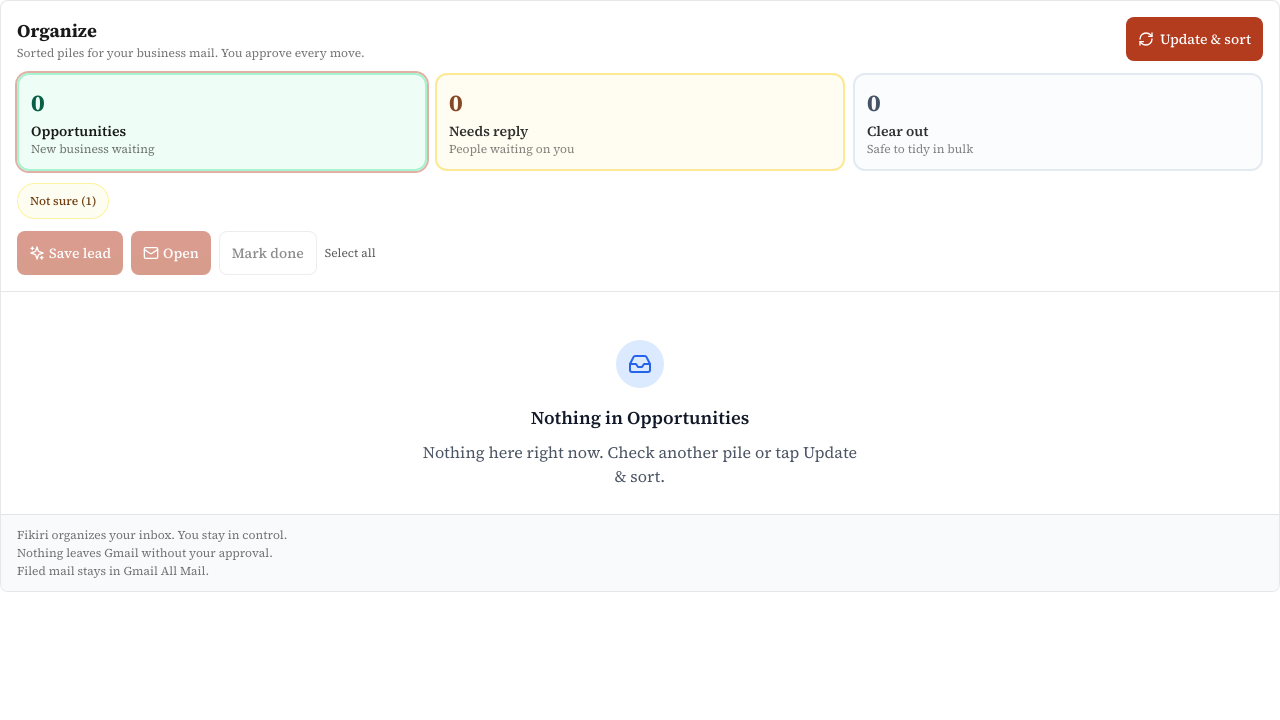
Test: EmailCommandCenter (Organize) › sanitizes jargon in Why panel
Click the tab "Not sure (1)" at (63, 201), box [17,183,109,219]
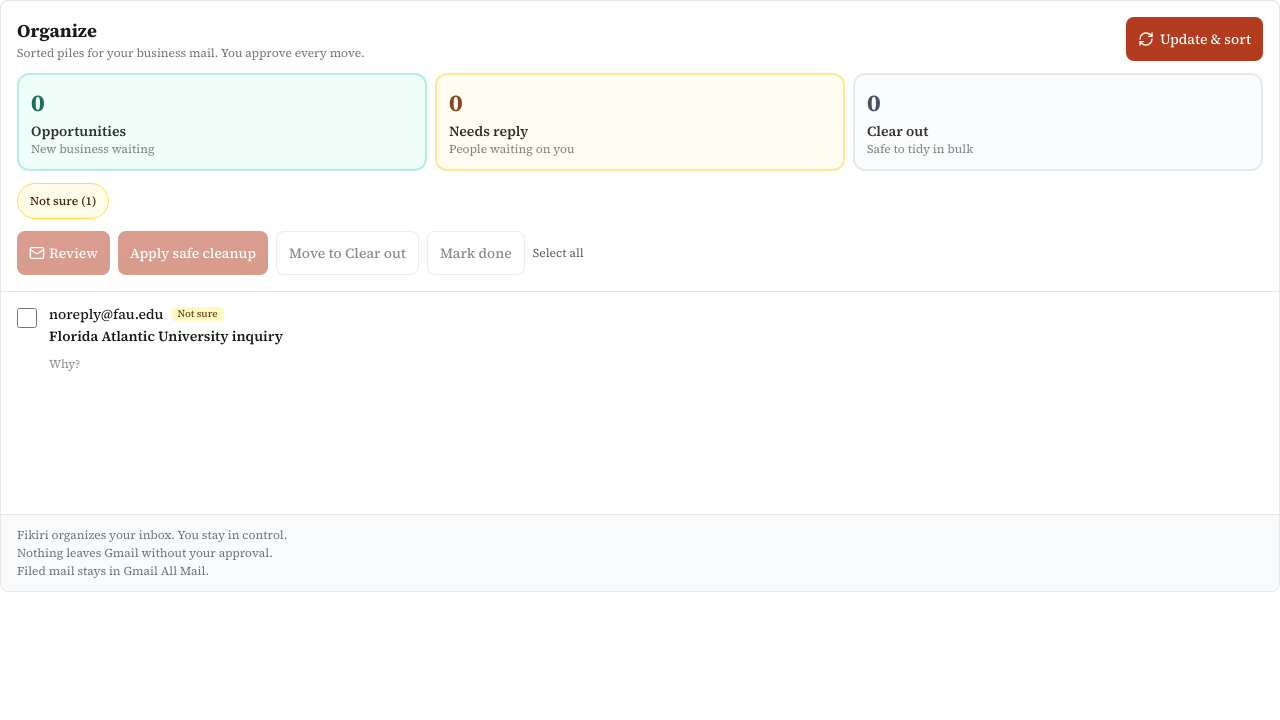
expect the text "Florida Atlantic University inquiry" is shown: met, box [49,326,283,346]
Click the button "Why?" at (65, 364), box [49,356,80,372]
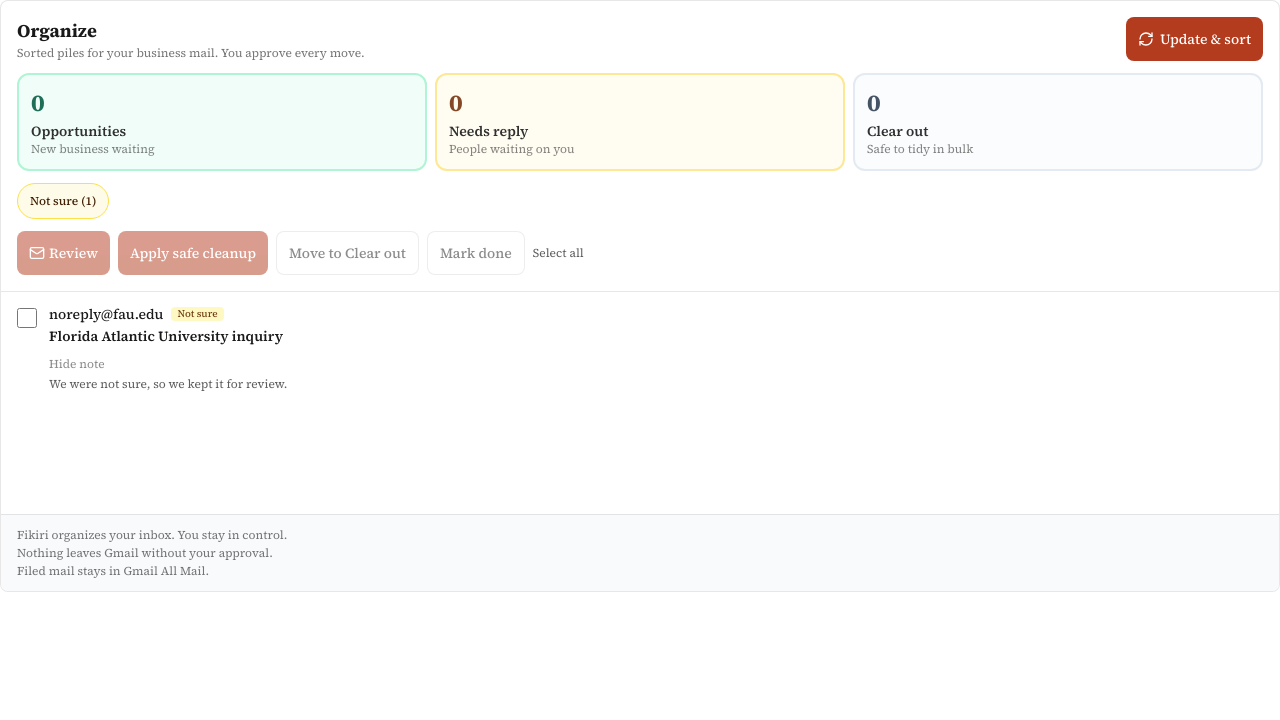
expect the text "We were not sure, so we kept it for review." is shown: met, box [49,376,287,392]
